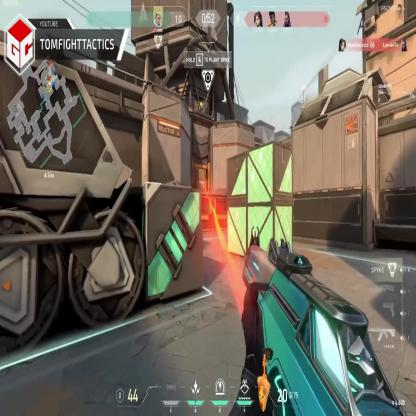enemy: (201, 182, 205, 192)
enemy_head: (202, 182, 204, 185)
